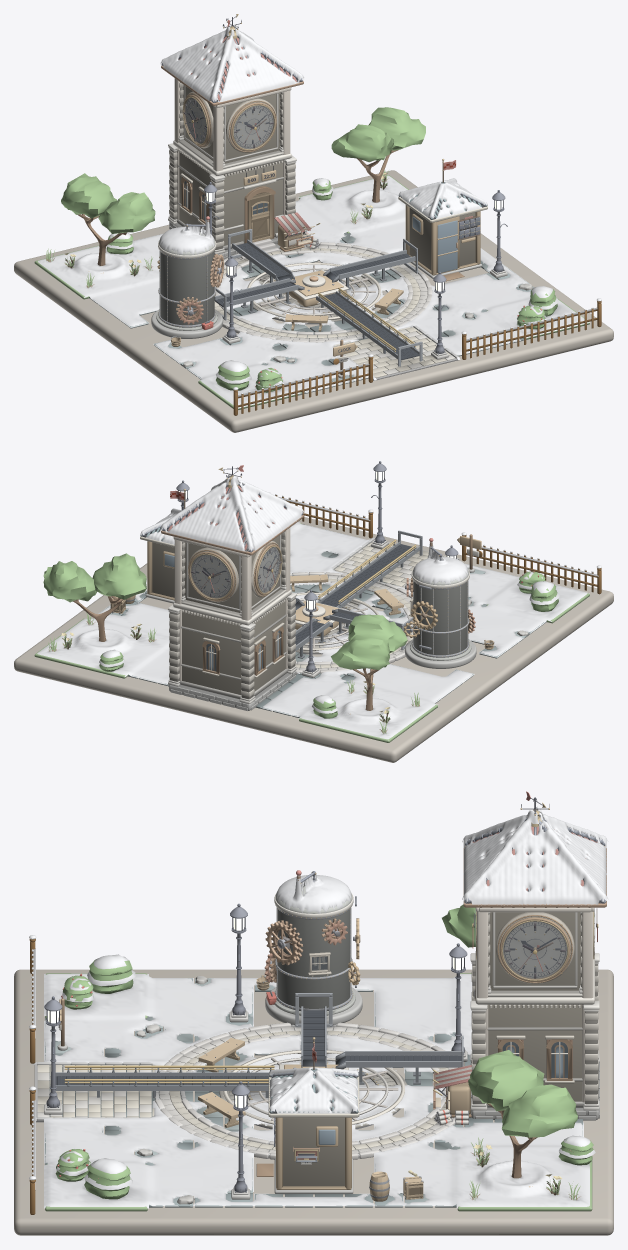
The model's file is clock.glb.
3 renders of one model, top to bottom at view 1: azimuth 30°, elevation 25°; view 2: azimuth 150°, elevation 25°; view 3: azimuth 270°, elevation 25°, orthographic. The views are drawn at different scales.
Parts seen in each view (by area): view 1: Snow_ground, Ground_base.ck, Snow_roof_Tower, Ground_path, Tower_beige, Tower_body_detail, Foliage_tree_NW, Gear_greywhite, Foliage_tree_NE, Fence_south.ck, Tower_clockfaces, Ground_paving.ck (+23 smaller); view 2: Snow_ground, Ground_base.ck, Tower_beige, Snow_roof_Tower, Tower_body_detail, Foliage_tree_NE, Gear_greywhite, Tower_clockfaces, Foliage_tree_NW, Ground_path, Fence_south.ck, Ground_paving.ck (+22 smaller); view 3: Snow_ground, Ground_base.ck, Snow_roof_Tower, Ground_path, Tower_beige, Foliage_tree_NE, Tower_body_detail, Ground_paving.ck, Gear_greywhite, Tower_clockfaces, Snow_roof_Kiosk, Kiosk_greywhite (+35 smaller).
Part boxes in pixels (x1,y1,x2,y2): Snow_ground: (38, 175, 589, 408); Ground_base.ck: (14, 170, 613, 432); Snow_roof_Tower: (160, 25, 303, 102); Ground_path: (214, 243, 458, 380); Tower_beige: (179, 85, 282, 245); Tower_body_detail: (168, 82, 296, 261); Foliage_tree_NW: (61, 173, 155, 265); Gear_greywhite: (156, 232, 217, 330); Foliage_tree_NE: (331, 107, 425, 202); Fence_south.ck: (233, 301, 601, 415); Tower_clockfaces: (182, 91, 276, 152); Ground_paving.ck: (89, 201, 533, 395); Snow_ground: (37, 522, 589, 740); Ground_base.ck: (14, 517, 613, 762); Tower_beige: (182, 534, 285, 694); Snow_roof_Tower: (161, 473, 304, 551); Tower_body_detail: (168, 531, 296, 710); Foliage_tree_NE: (43, 553, 146, 641); Gear_greywhite: (410, 558, 471, 660); Tower_clockfaces: (188, 541, 282, 602); Foliage_tree_NW: (331, 614, 407, 710); Ground_path: (291, 537, 459, 672); Fence_south.ck: (275, 495, 601, 594); Ground_paving.ck: (99, 524, 546, 717); Snow_ground: (32, 973, 591, 1208); Ground_base.ck: (14, 969, 613, 1235); Snow_roof_Tower: (462, 806, 608, 905); Ground_path: (34, 1024, 457, 1158); Tower_beige: (488, 912, 581, 1101); Foliage_tree_NE: (468, 1050, 577, 1177); Tower_body_detail: (470, 912, 599, 1120); Ground_paving.ck: (45, 978, 582, 1207); Gear_greywhite: (274, 886, 355, 1015); Tower_clockfaces: (475, 910, 594, 983); Snow_roof_Kiosk: (268, 1067, 359, 1113); Kiosk_greywhite: (283, 1117, 344, 1186).
Bounding box in the file's own units: 16 × 9.25 × 16.
